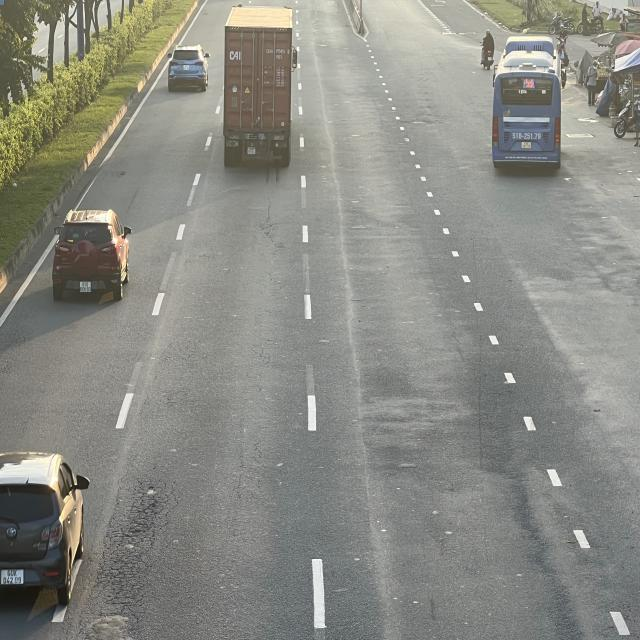car: (51, 207, 130, 301), (170, 46, 212, 94)
coach: (496, 36, 566, 170)
container: (225, 5, 298, 165)
